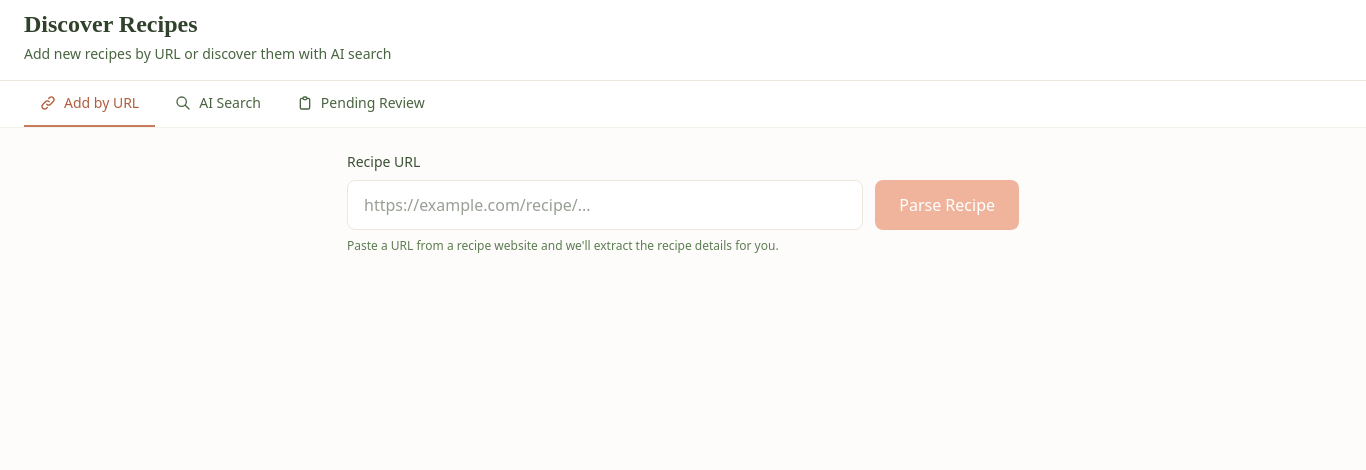
Scenario: DiscoverPage › AI Search › renders AI search form
Click on AI Search tab
Click the button "AI Search": point(218, 104) [159,81,277,127]
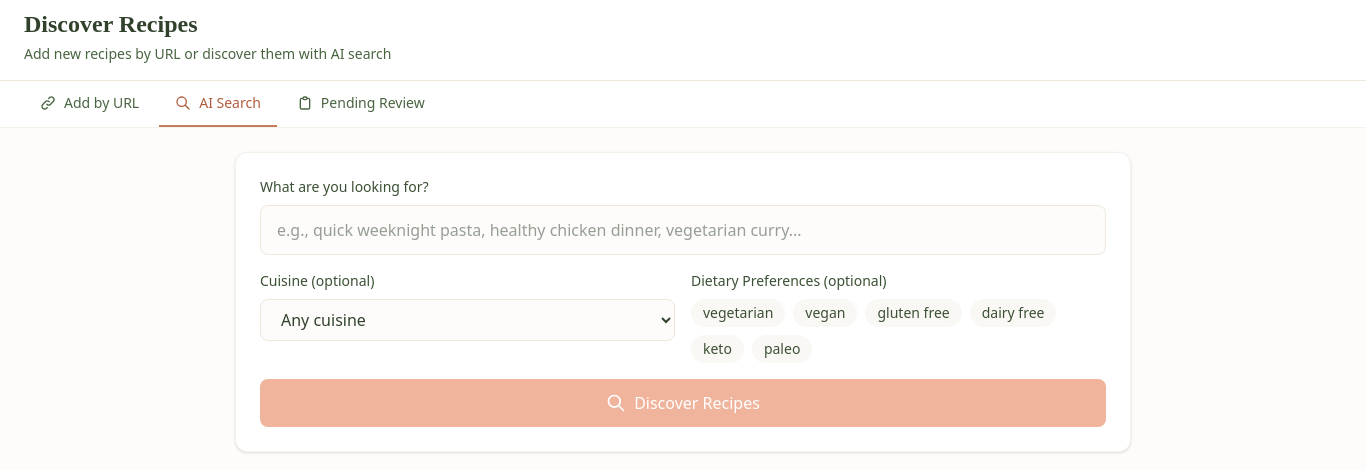
Result: the field with placeholder "quick weeknight pasta" is shown at [260,205,1106,255]
Result: the button "Discover Recipes" is shown at [260,379,1106,427]
